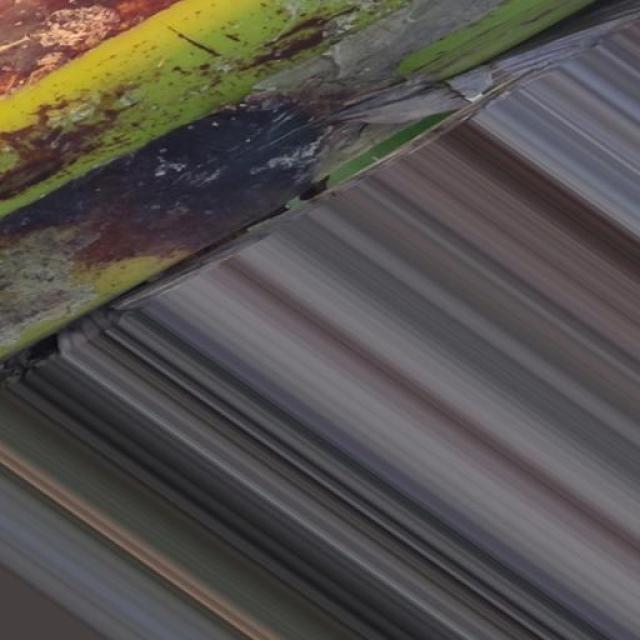Anthracnose: (2, 0, 639, 406)
